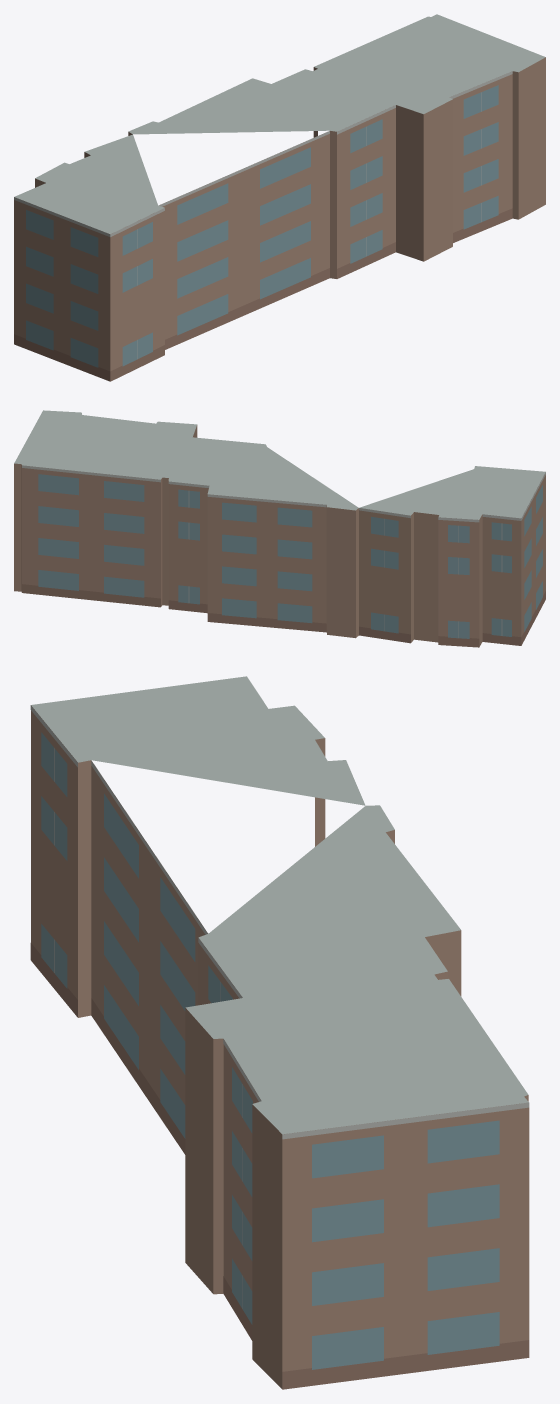
The model's file is survey-upis-32629832.glb.
3 views of the same model, one above another, from view 1: azimuth 30°, elevation 25°; view 2: azimuth 150°, elevation 25°; view 3: azimuth 270°, elevation 25° (orthographic). The views are drawn at different scales.
Parts seen in each view (by area): view 1: survey-upis-32629832.tmp; view 2: survey-upis-32629832.tmp; view 3: survey-upis-32629832.tmp.
Boxes of the visible parts, <box> form: survey-upis-32629832.tmp: <box>14,14,545,381</box>; survey-upis-32629832.tmp: <box>14,410,545,647</box>; survey-upis-32629832.tmp: <box>30,676,529,1389</box>.
Bounding box in the file's own units: 46.96 × 12.2 × 21.59.
